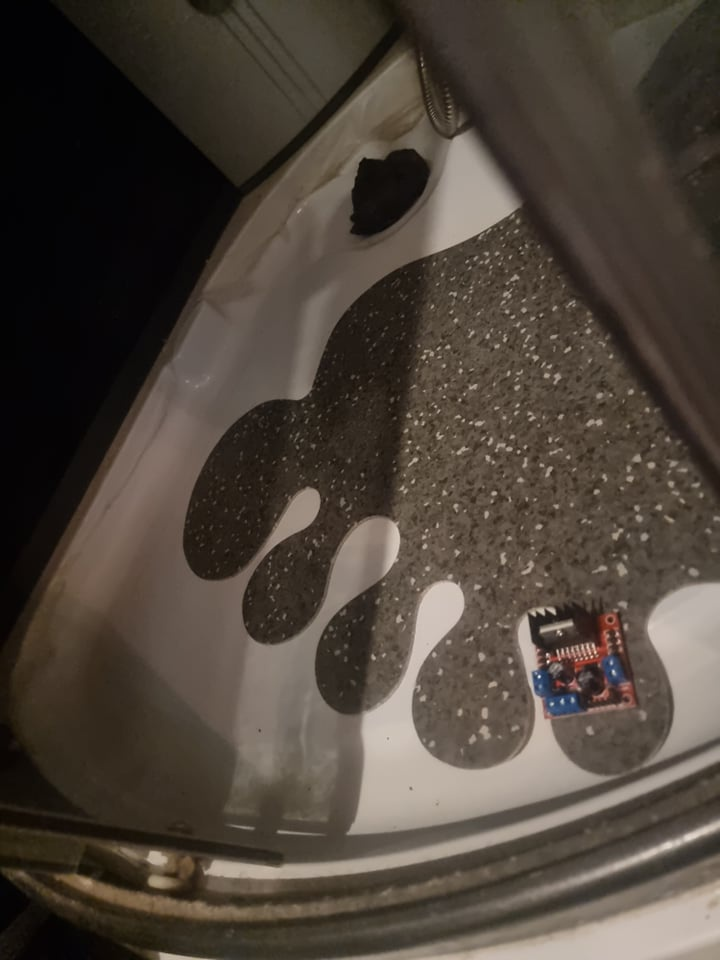MOTOR: (527, 603, 641, 723)
